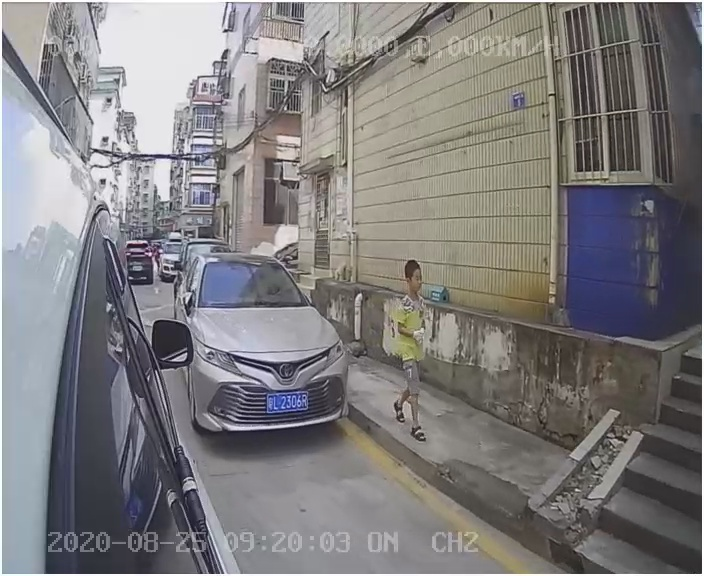person: (380, 257, 464, 448)
